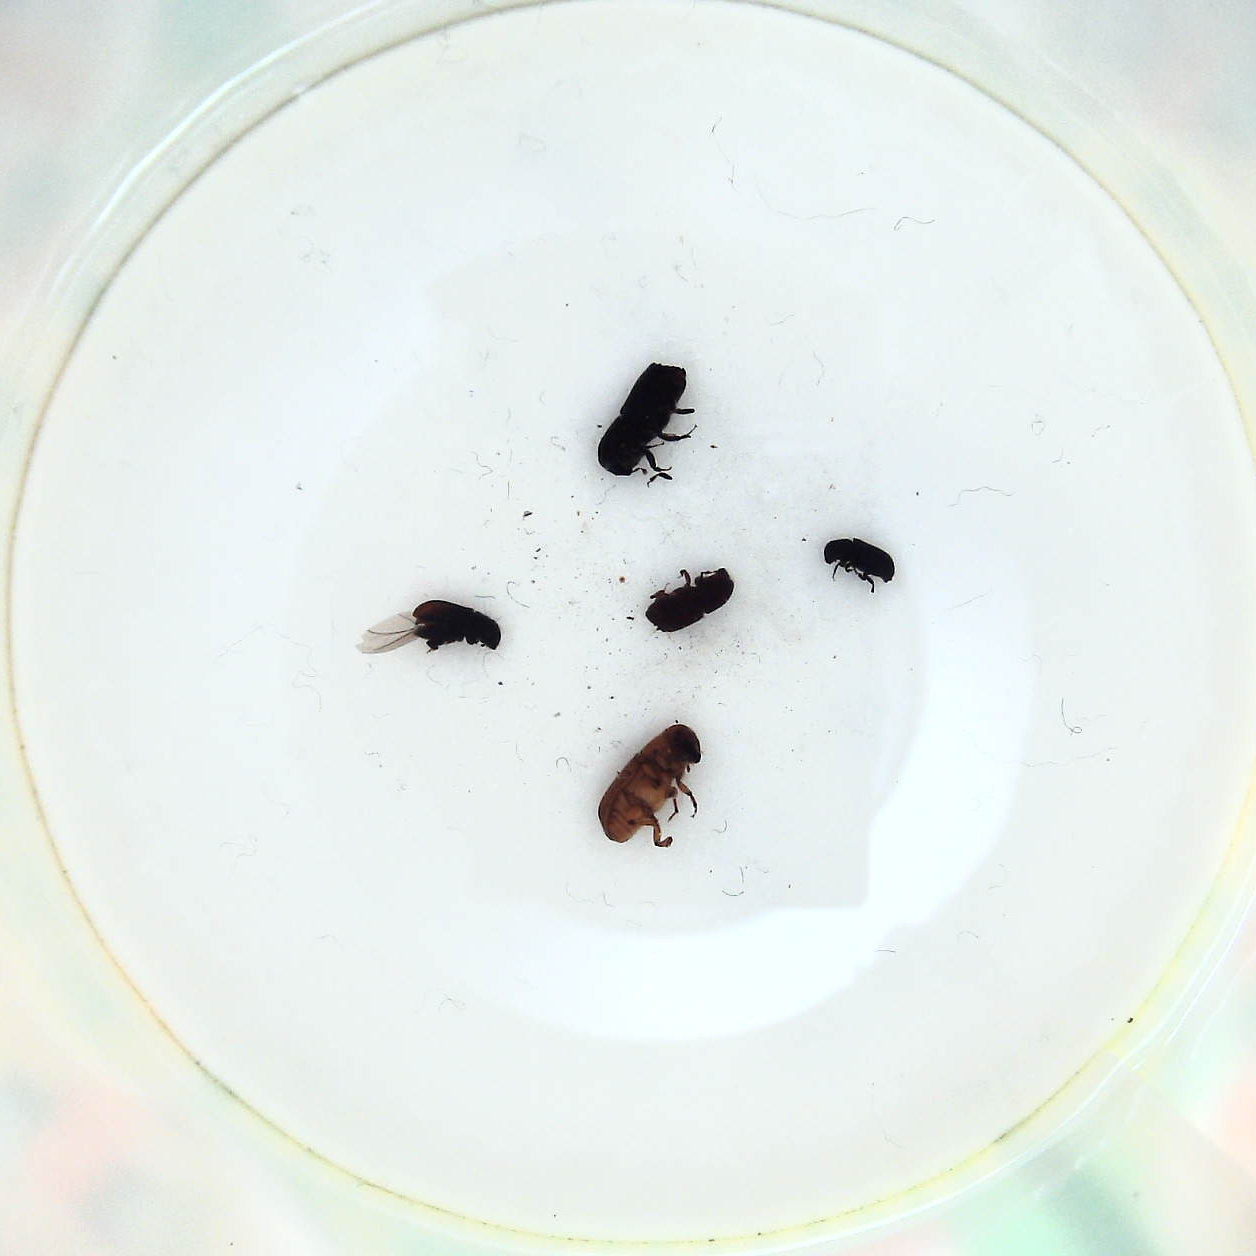Boerner: (591, 358, 704, 487)
Leconte: (593, 718, 706, 855)
armandi: (380, 599, 508, 663)
coleoptera: (818, 531, 899, 589)
linnaeus: (645, 562, 743, 638)
